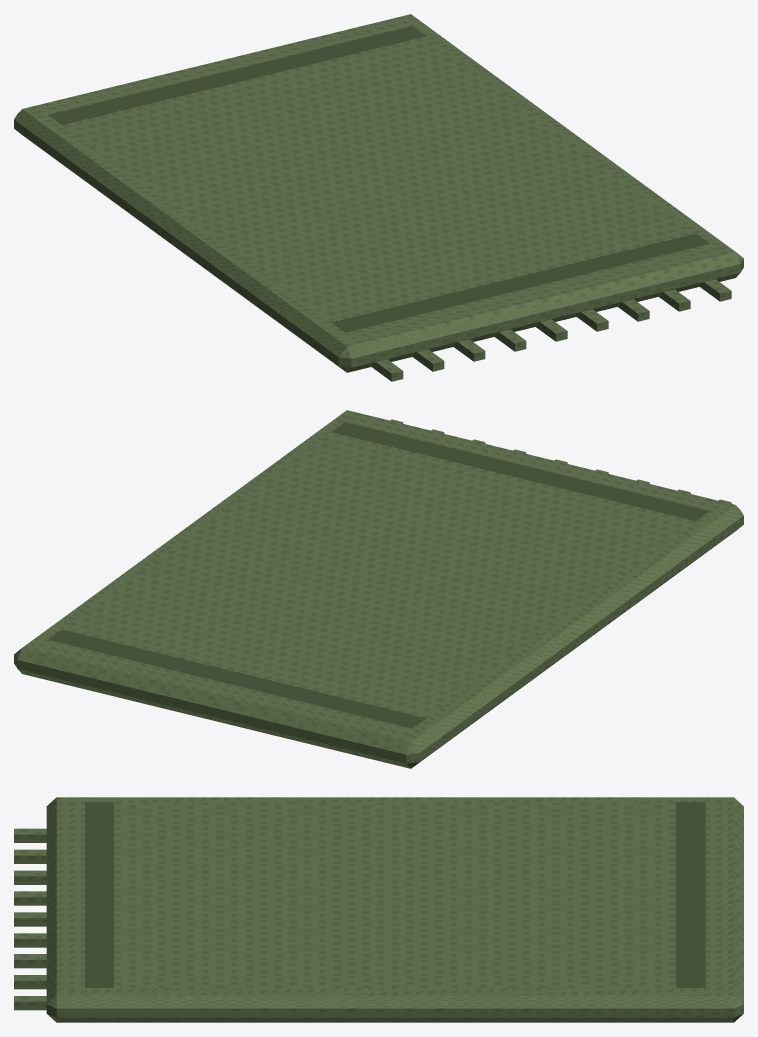
File: knit_scarf.glb
The picture shows the model from 3 angles, top to bottom: view 1: azimuth 30°, elevation 25°; view 2: azimuth 150°, elevation 25°; view 3: azimuth 270°, elevation 25°; orthographic projection. The views are drawn at different scales.
Parts seen in each view (by area): view 1: block_hem or woven pattern, block_folded textile; view 2: block_hem or woven pattern, block_folded textile; view 3: block_hem or woven pattern, block_folded textile, block_tassel 0, block_tassel 1, block_tassel 2, block_tassel 3, block_tassel 4, block_tassel 5, block_tassel 6, block_tassel 7, block_tassel 8.
Boxes of the visible parts, bbox=[...] form: block_hem or woven pattern: bbox=[48, 26, 709, 332]; block_folded textile: bbox=[14, 14, 743, 372]; block_hem or woven pattern: bbox=[48, 422, 709, 728]; block_folded textile: bbox=[14, 410, 743, 768]; block_hem or woven pattern: bbox=[85, 802, 705, 987]; block_folded textile: bbox=[46, 797, 743, 1022]; block_tassel 0: bbox=[14, 828, 46, 842]; block_tassel 1: bbox=[14, 849, 46, 863]; block_tassel 2: bbox=[14, 870, 46, 884]; block_tassel 3: bbox=[14, 891, 46, 905]; block_tassel 4: bbox=[14, 912, 46, 926]; block_tassel 5: bbox=[14, 933, 46, 947]; block_tassel 6: bbox=[14, 954, 46, 968]; block_tassel 7: bbox=[14, 975, 46, 989]; block_tassel 8: bbox=[14, 996, 46, 1010].
Bounding box in the file's own units: 0.21 × 0.0135 × 0.314.
1 material, 1 textured.
